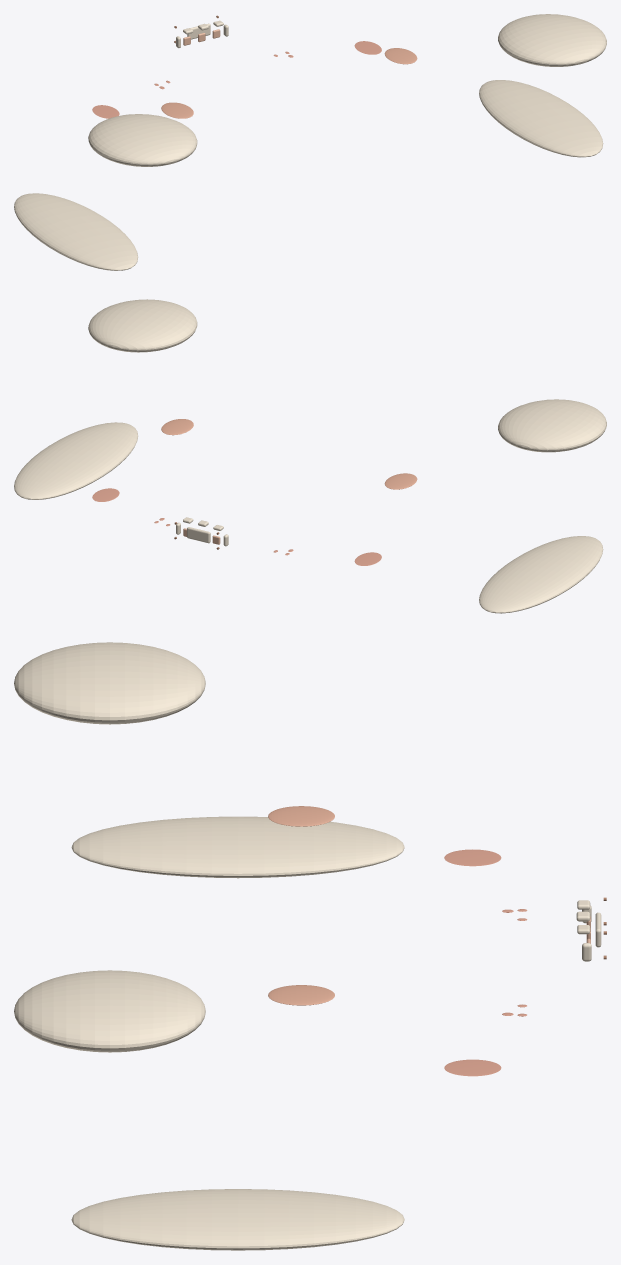
The model's file is sofa.obj.
The picture shows the model from 3 angles, top to bottom: view 1: azimuth 30°, elevation 25°; view 2: azimuth 150°, elevation 25°; view 3: azimuth 270°, elevation 25°; orthographic projection. The views are drawn at different scales.
Parts seen in each view (by area): view 1: object_14, object_15, object_8, object_9, object_10, object_11; view 2: object_14, object_15, object_9, object_8; view 3: object_15, object_14, object_9, object_8, object_10, object_11, object_16.
Boxes of the visible parts, left/top/right/bottom form: object_14: left=14, top=193, right=138, bottom=270; object_15: left=479, top=80, right=603, bottom=157; object_8: left=88, top=114, right=197, bottom=166; object_9: left=498, top=14, right=606, bottom=66; object_10: left=161, top=102, right=193, bottom=118; object_11: left=384, top=48, right=417, bottom=64; object_14: left=479, top=536, right=603, bottom=613; object_15: left=14, top=422, right=138, bottom=499; object_9: left=88, top=299, right=197, bottom=352; object_8: left=498, top=399, right=606, bottom=452; object_15: left=71, top=1189, right=404, bottom=1250; object_14: left=71, top=816, right=404, bottom=878; object_9: left=14, top=970, right=205, bottom=1052; object_8: left=14, top=642, right=205, bottom=724; object_10: left=268, top=806, right=334, bottom=826; object_11: left=268, top=985, right=334, bottom=1005; object_16: left=444, top=849, right=501, bottom=866.
Size of the model in its own units: 5130 by 1200 by 2992.
